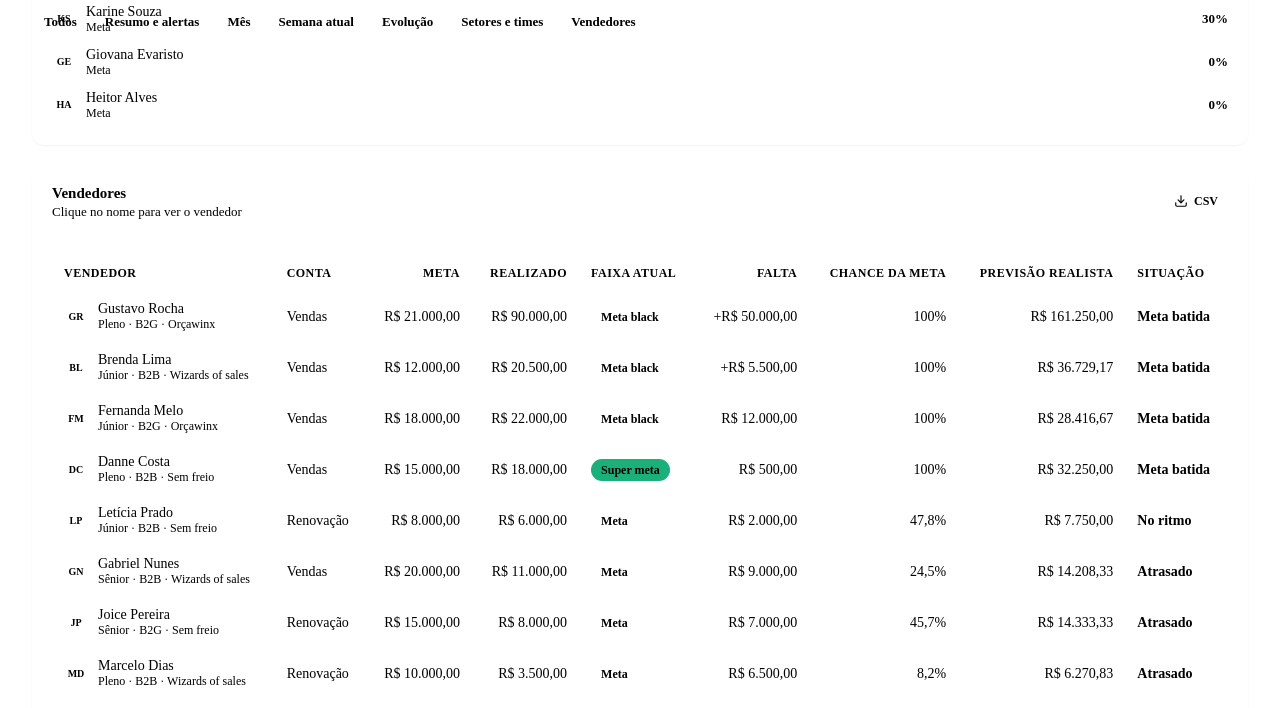
Test: Telas de metas com os dados falsos (quarta 21/10/2026) › Metas por vendedor › clicar no vendedor abre a visão por vendedor só com a conta dele, as faixas, o forecast e as semanas
(page scrolled)
Click the button "Brenda Lima" at coordinates (135, 360), box [98, 352, 172, 368]
(page scrolled)
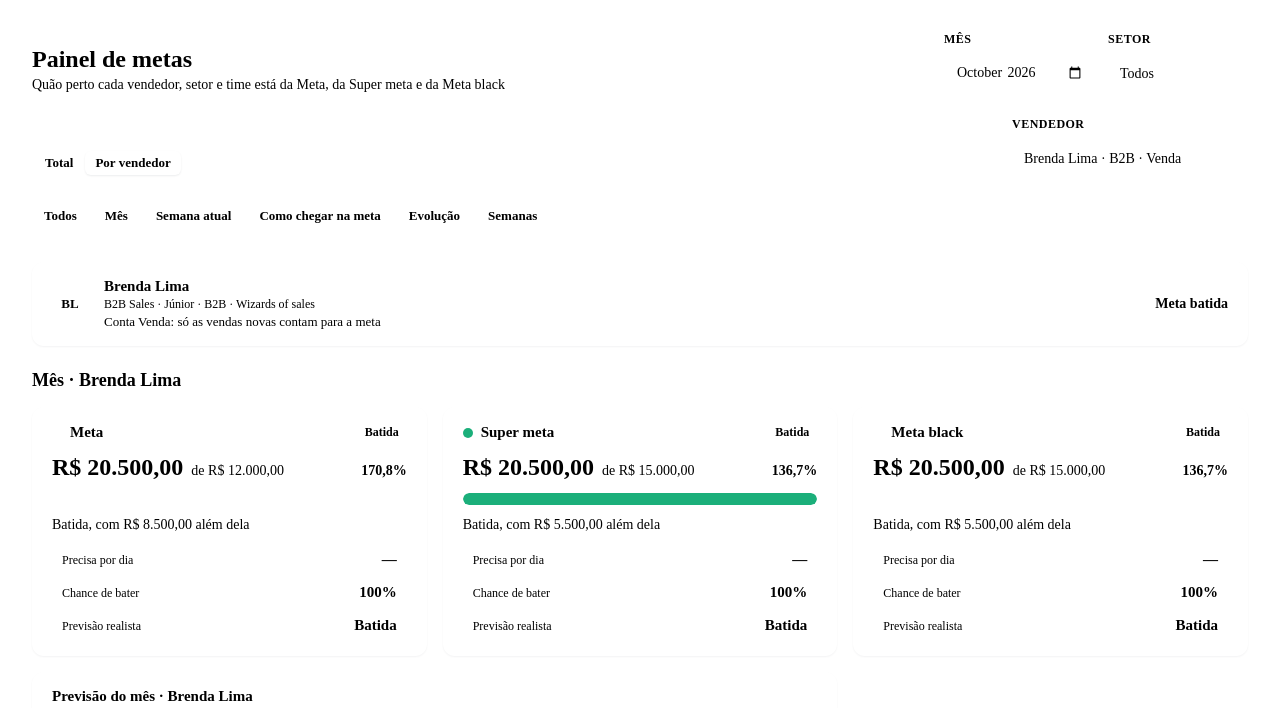
expect the element named "Vendedor Brenda Lima" shows "Conta Venda: só as vendas novas contam": met, box [104, 314, 381, 329]
Select "Giovana Evaristo · B2B · Farmer" in the dropdown named "Escolher vendedor" at coordinates (1130, 158), box [1012, 138, 1248, 178]
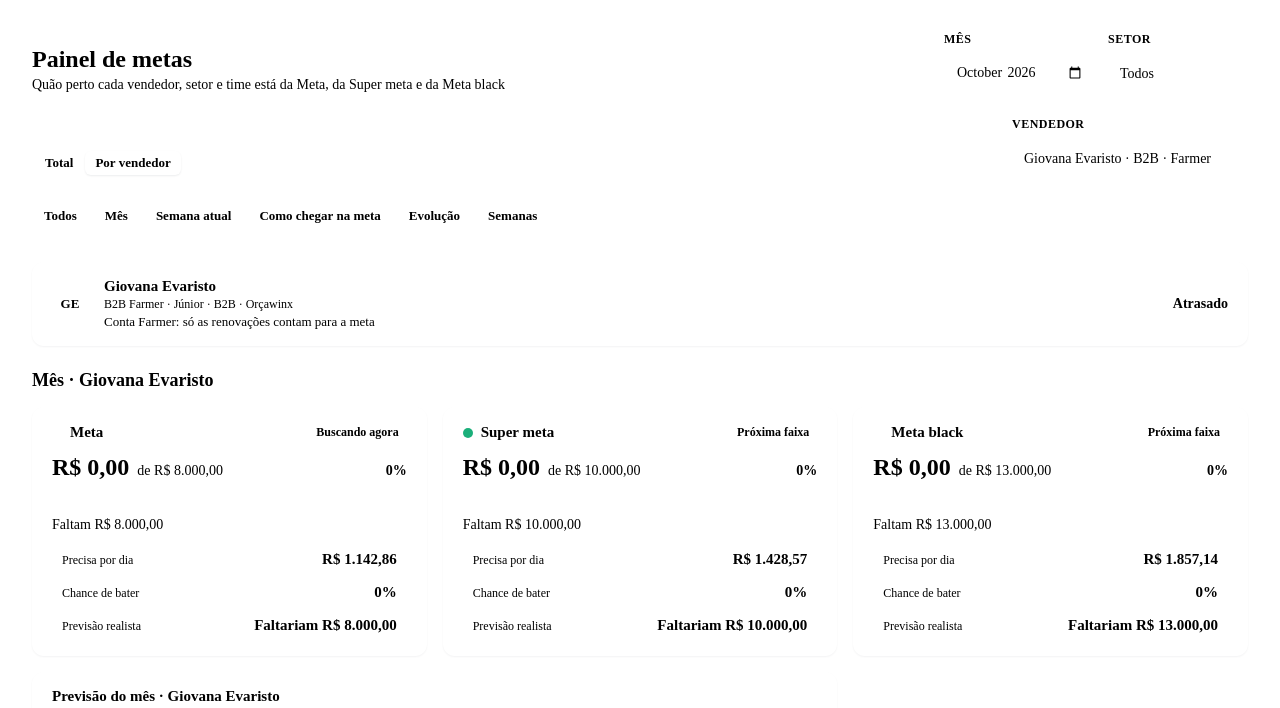
expect the element named "Vendedor " shows "Conta Farmer: só as renovações": met, box [104, 314, 375, 329]
